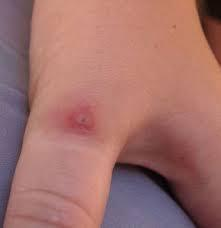Spider: (65, 100, 97, 135)
